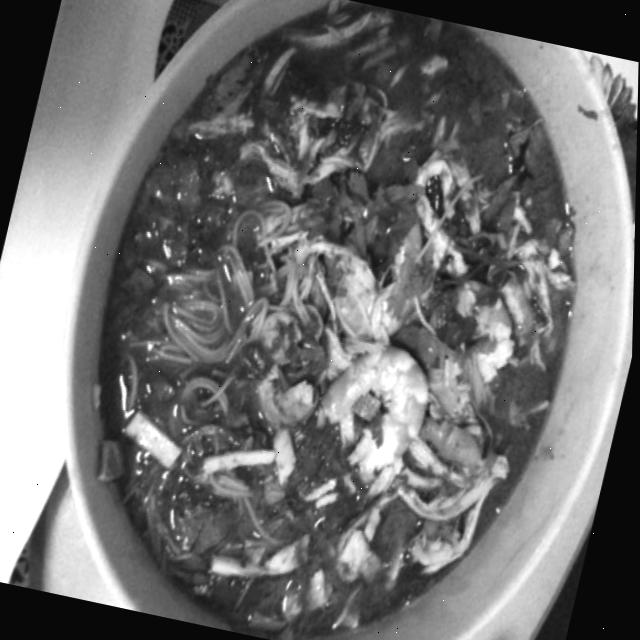面条主食: (18, 0, 640, 640)
